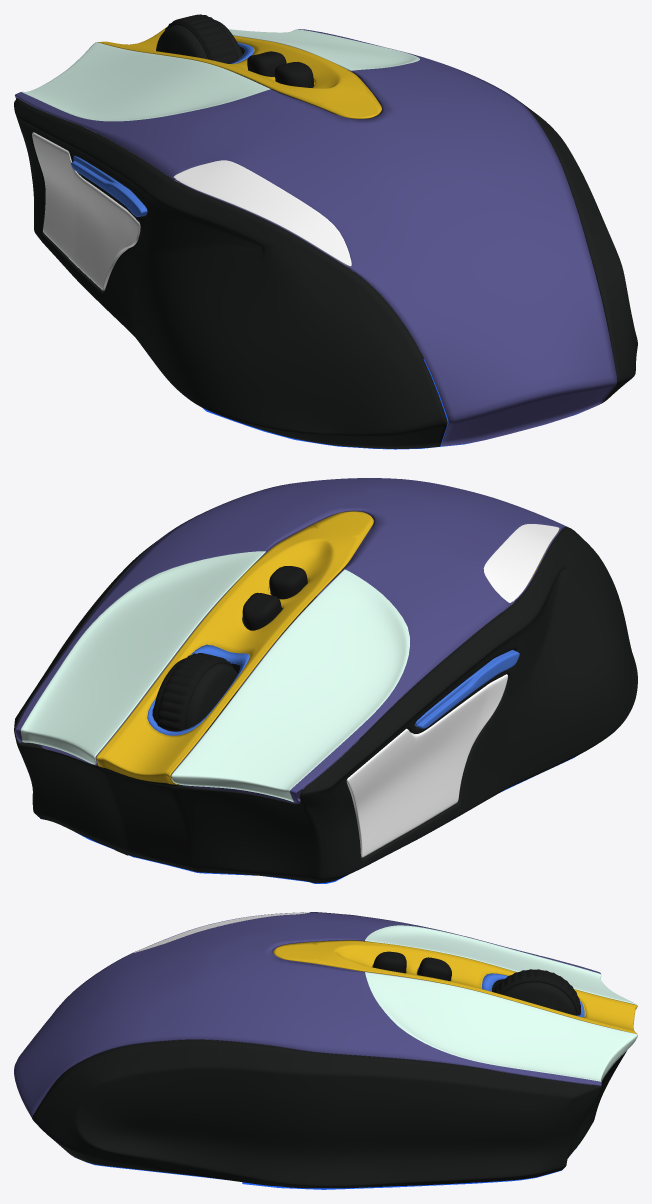
File: mouse.gltf
3 renders of one model, top to bottom at view 1: azimuth 30°, elevation 25°; view 2: azimuth 150°, elevation 25°; view 3: azimuth 270°, elevation 25°, orthographic. The views are drawn at different scales.
Parts seen in each view (by area): view 1: MouseThermaltakeBlack.015, MouseThermaltakeBlack.003, MouseThermaltakeBlack.001, MouseThermaltakeBlack, MouseThermaltakeBlack.002, MouseThermaltakeBlack.008, MouseThermaltakeBlack.007, MouseThermaltakeBlack.004; view 2: MouseThermaltakeBlack.003, MouseThermaltakeBlack.015, MouseThermaltakeBlack.001, MouseThermaltakeBlack, MouseThermaltakeBlack.008, MouseThermaltakeBlack.002, MouseThermaltakeBlack.004, MouseThermaltakeBlack.007, MouseThermaltakeBlack.012, MouseThermaltakeBlack.013; view 3: MouseThermaltakeBlack.003, MouseThermaltakeBlack.015, MouseThermaltakeBlack.008, MouseThermaltakeBlack, MouseThermaltakeBlack.005, MouseThermaltakeBlack.001, MouseThermaltakeBlack.004, MouseThermaltakeBlack.007.
Part boxes in pixels (bbox=[...]): MouseThermaltakeBlack.015: bbox=[15, 29, 617, 446]; MouseThermaltakeBlack.003: bbox=[14, 26, 637, 448]; MouseThermaltakeBlack.001: bbox=[174, 160, 351, 266]; MouseThermaltakeBlack: bbox=[165, 14, 243, 76]; MouseThermaltakeBlack.002: bbox=[71, 155, 147, 216]; MouseThermaltakeBlack.008: bbox=[156, 20, 248, 78]; MouseThermaltakeBlack.007: bbox=[274, 62, 314, 87]; MouseThermaltakeBlack.004: bbox=[247, 51, 286, 76]; MouseThermaltakeBlack.003: bbox=[14, 511, 637, 883]; MouseThermaltakeBlack.015: bbox=[15, 478, 570, 802]; MouseThermaltakeBlack.001: bbox=[483, 524, 559, 605]; MouseThermaltakeBlack: bbox=[156, 653, 233, 731]; MouseThermaltakeBlack.008: bbox=[153, 658, 237, 729]; MouseThermaltakeBlack.002: bbox=[414, 650, 519, 728]; MouseThermaltakeBlack.004: bbox=[242, 592, 281, 630]; MouseThermaltakeBlack.007: bbox=[269, 566, 307, 599]; MouseThermaltakeBlack.012: bbox=[97, 511, 375, 801]; MouseThermaltakeBlack.013: bbox=[15, 730, 302, 803]; MouseThermaltakeBlack.003: bbox=[32, 914, 637, 1188]; MouseThermaltakeBlack.015: bbox=[14, 912, 637, 1117]; MouseThermaltakeBlack.008: bbox=[502, 982, 576, 1015]; MouseThermaltakeBlack: bbox=[492, 969, 580, 1015]; MouseThermaltakeBlack.005: bbox=[74, 1148, 576, 1189]; MouseThermaltakeBlack.001: bbox=[134, 912, 309, 952]; MouseThermaltakeBlack.004: bbox=[417, 957, 451, 981]; MouseThermaltakeBlack.007: bbox=[372, 951, 406, 973].
Bounding box in the file's own units: 8.26 × 4.05 × 13.83.
